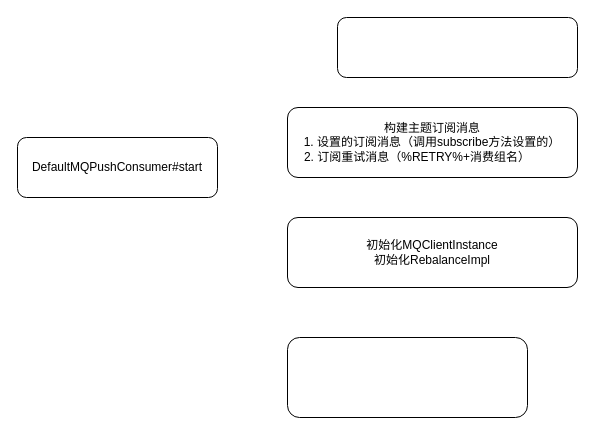
Image size: 595x435. Some labels were removed from this diagram. The box of each missing label's shape, as (x1, y1, x2, y2) in pixels:
开始启动 1. 2. 开启各种定时任务 3. 开始拉取消息 4.: (286, 336, 528, 418)
检查配置，consumerGroup不能为空 messageListener不能为空等: (336, 16, 578, 78)
